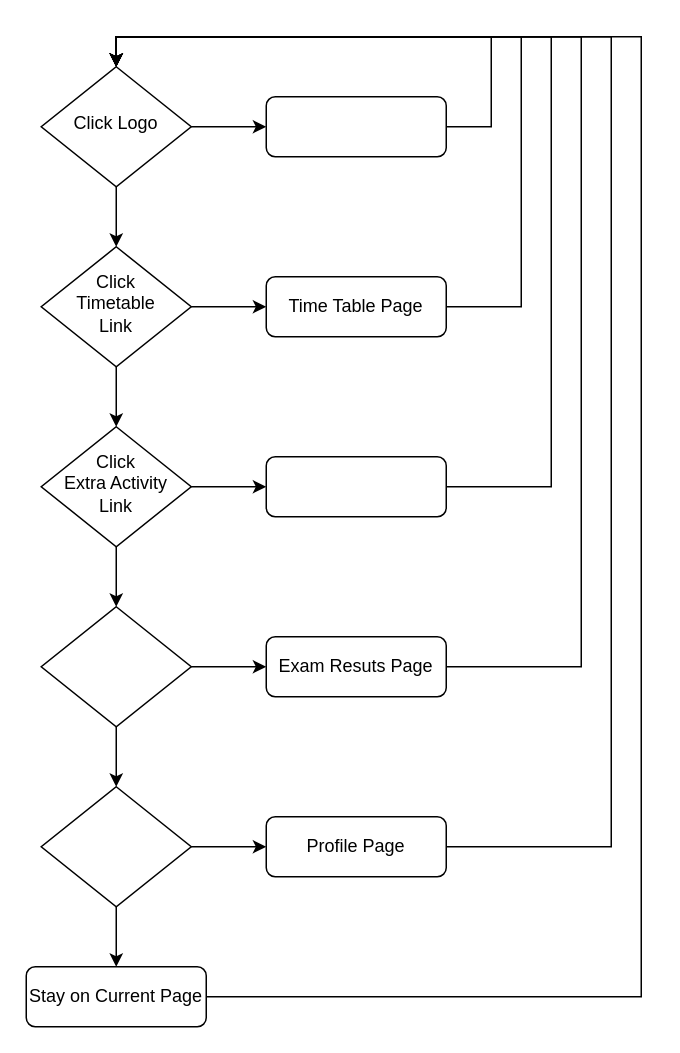
This 680x1053 diagram has some shape labels left out. The shapes that lost their labels are listed below. From the top down, each one's centre as x and y in pixels, then its label:
[355,126]: Welcome Page
[355,486]: Activity Page
[115,666]: Click Exam Results Link
[115,846]: Click Profile Link
